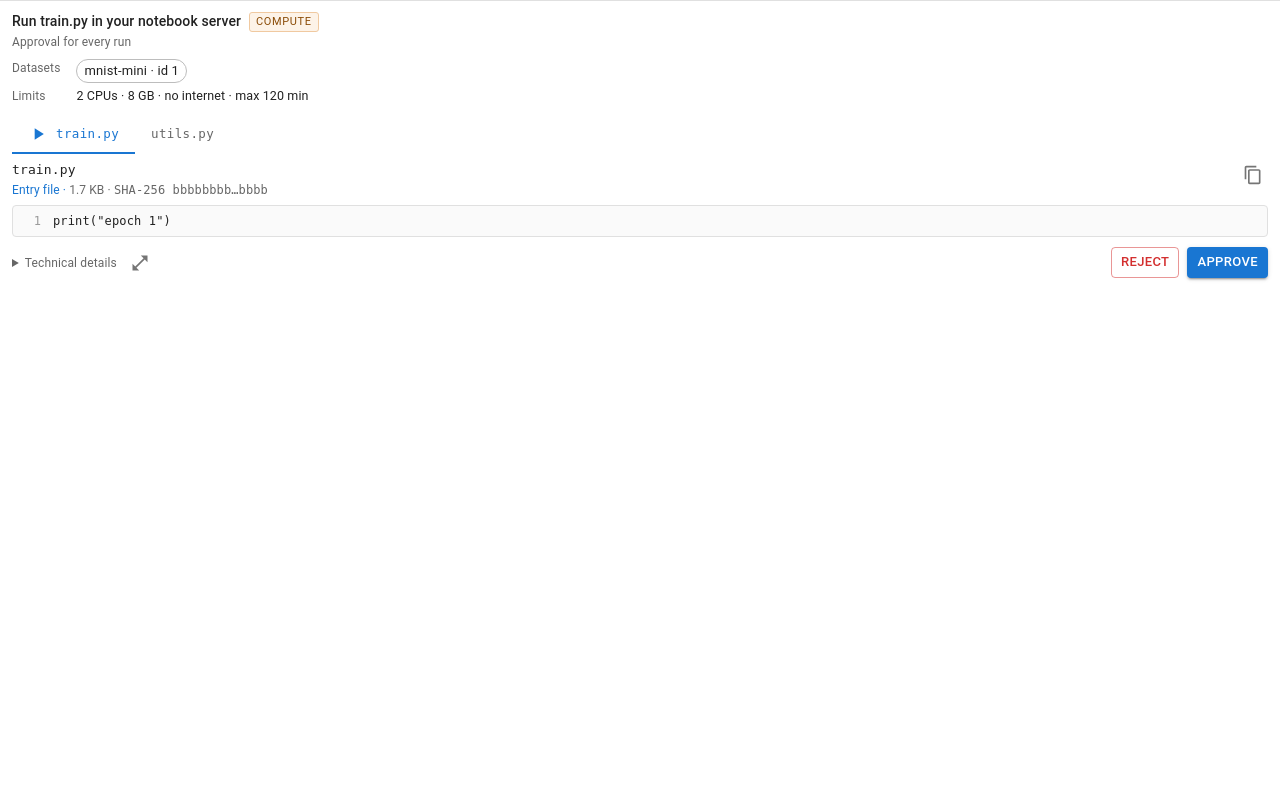
it: the expand dialog › closes on Escape without deciding anything
Click the button named "Expand" at (140, 263), box top-left (125, 248), bottom-right (155, 278)
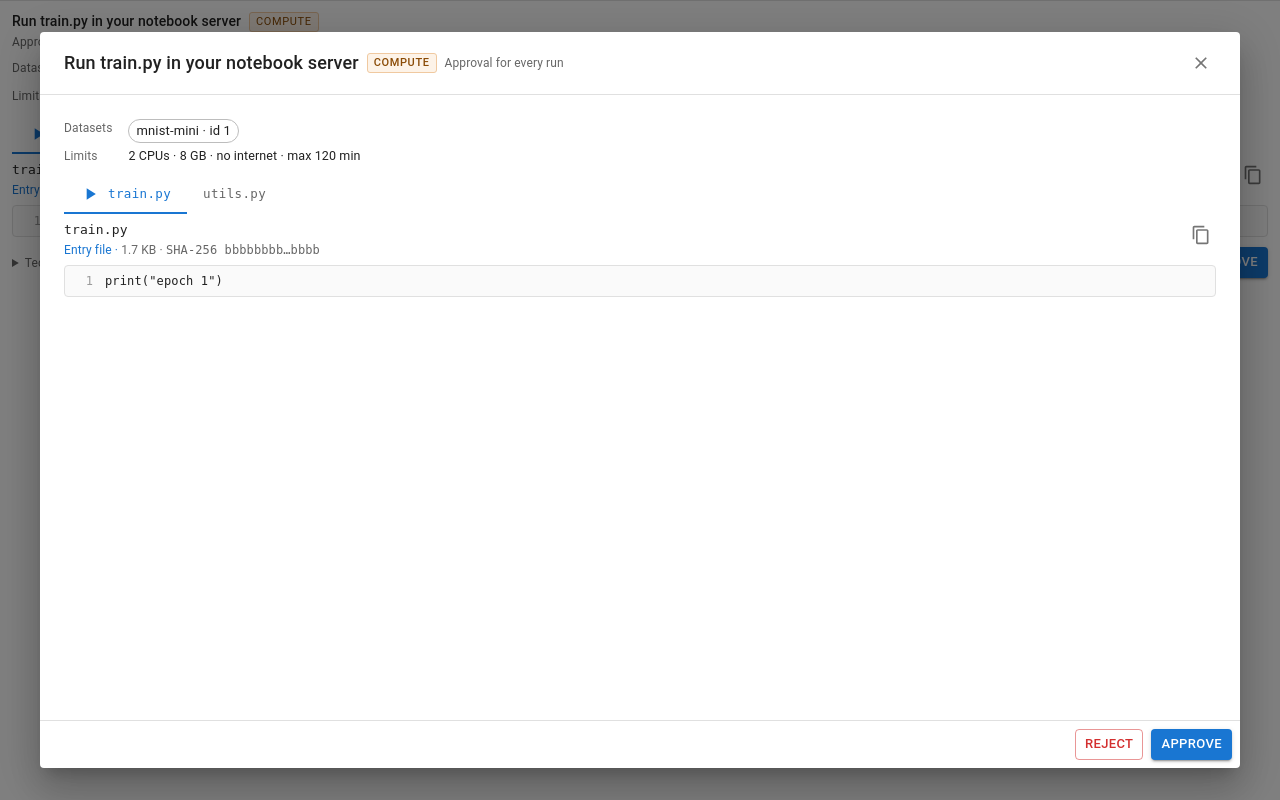
Press Escape in the dialog
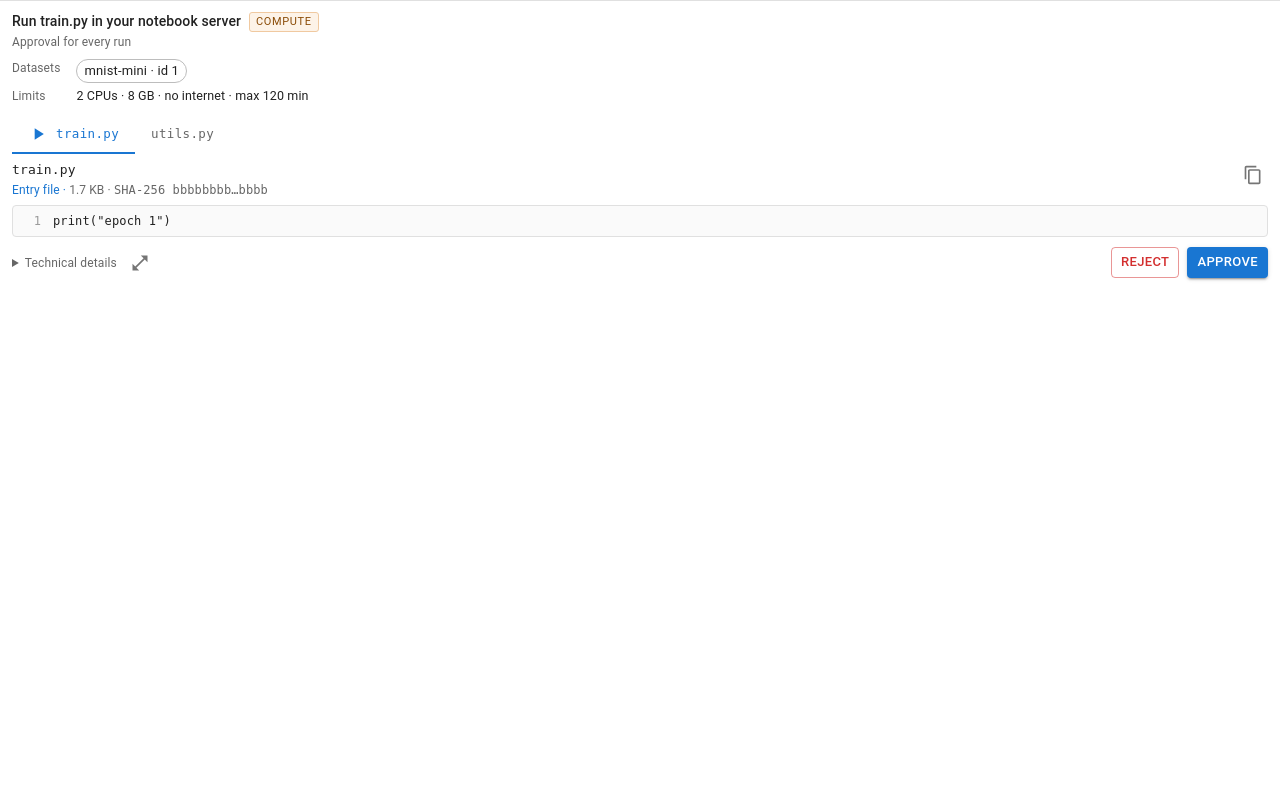
Result: the dialog is gone
